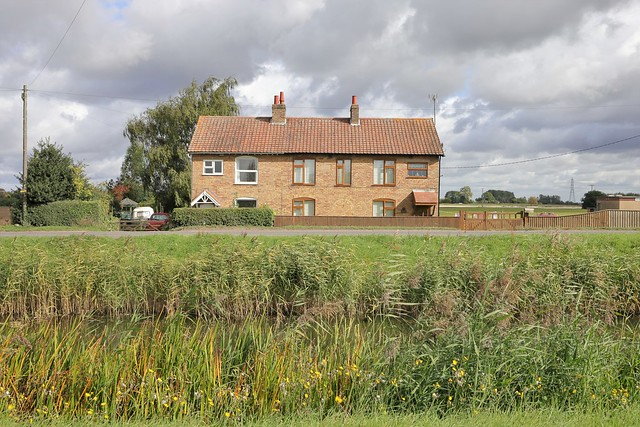low: (186, 94, 446, 230)
